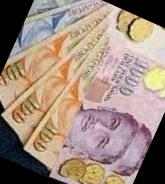1000SingaporeDollar: (51, 9, 165, 184)
